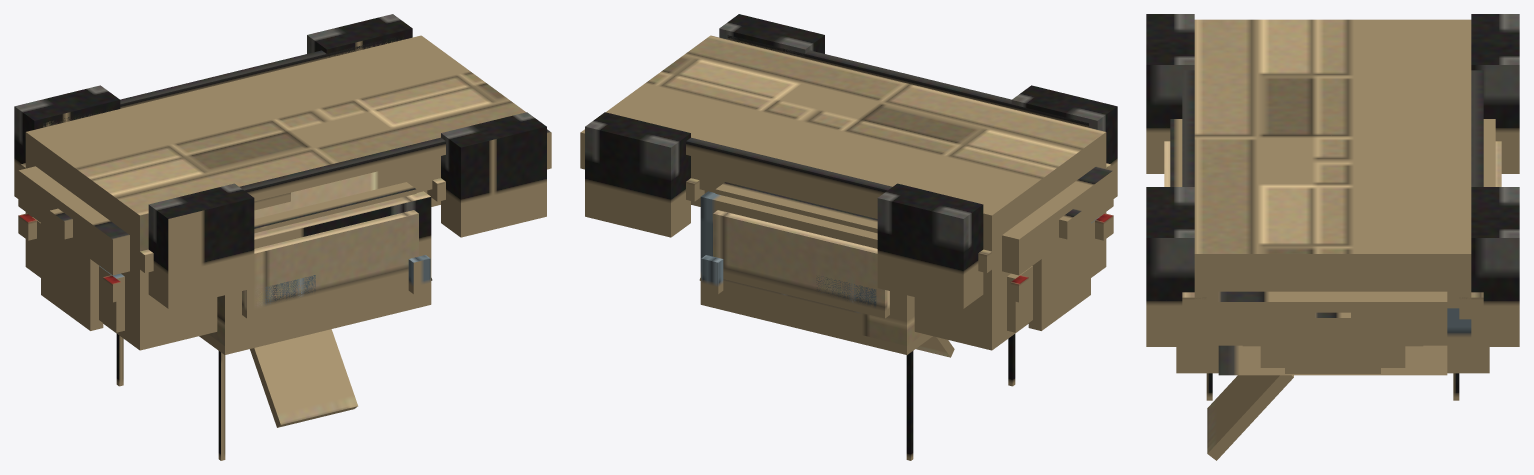
File: humvee.obj
3 renders of one model, left to right at view 1: azimuth 30°, elevation 25°; view 2: azimuth 150°, elevation 25°; view 3: azimuth 270°, elevation 25°, orthographic. The views are drawn at different scales.
Parts seen in each view (by area): view 1: Lower_Hull, Door_Armor_R, Wheel_Rear_Right, Wheel_Front_Right, Upper_Cab, Gunner_Shield, Rear_Bumper, Rear_Deck, Spare_Tire, Frame_Rail_R, Wheel_Rear_Left, Wheel_Front_Left (+8 smaller); view 2: Lower_Hull, Door_Armor_L, Wheel_Rear_Left, Wheel_Front_Left, Upper_Cab, Rear_Bumper, Rear_Deck, Spare_Tire, Frame_Rail_L, Wheel_Rear_Right, Frame_Rail_R, Wheel_Front_Right (+7 smaller); view 3: Lower_Hull, Front_Bumper, Wheel_Front_Left, Wheel_Front_Right, Wheel_Rear_Left, Wheel_Rear_Right, Gunner_Shield, Grille, Windshield, Upper_Cab, Frame_Rail_L, Frame_Rail_R (+7 smaller).
Boxes of the visible parts, <box> form: Lower_Hull: <box>25,35,525,260</box>; Door_Armor_R: <box>242,210,418,318</box>; Wheel_Rear_Right: <box>148,183,254,308</box>; Wheel_Front_Right: <box>441,112,546,237</box>; Upper_Cab: <box>208,191,431,345</box>; Gunner_Shield: <box>250,329,357,427</box>; Rear_Bumper: <box>18,166,129,275</box>; Rear_Deck: <box>25,212,217,350</box>; Spare_Tire: <box>41,214,103,330</box>; Frame_Rail_R: <box>239,137,445,201</box>; Wheel_Rear_Left: <box>14,85,120,198</box>; Wheel_Front_Left: <box>307,14,412,57</box>; Lower_Hull: <box>606,35,1106,260</box>; Door_Armor_L: <box>713,210,889,318</box>; Wheel_Rear_Left: <box>877,183,983,308</box>; Wheel_Front_Left: <box>585,112,690,237</box>; Upper_Cab: <box>700,191,923,345</box>; Rear_Bumper: <box>1002,166,1113,275</box>; Rear_Deck: <box>914,212,1106,350</box>; Spare_Tire: <box>1028,214,1090,330</box>; Frame_Rail_L: <box>686,137,892,201</box>; Wheel_Rear_Right: <box>1011,85,1117,198</box>; Frame_Rail_R: <box>727,35,1088,127</box>; Wheel_Front_Right: <box>719,14,824,57</box>; Lower_Hull: <box>1194,19,1471,308</box>; Front_Bumper: <box>1218,291,1447,345</box>; Wheel_Front_Left: <box>1471,187,1519,346</box>; Wheel_Front_Right: <box>1146,187,1194,346</box>; Wheel_Rear_Left: <box>1471,14,1519,173</box>; Wheel_Rear_Right: <box>1146,14,1194,173</box>; Gunner_Shield: <box>1207,375,1293,460</box>; Grille: <box>1260,345,1405,367</box>; Windshield: <box>1218,345,1447,375</box>; Upper_Cab: <box>1176,308,1489,362</box>; Frame_Rail_L: <box>1471,70,1483,186</box>; Frame_Rail_R: <box>1182,70,1194,186</box>.
Bounding box in the file's own units: 106 × 62 × 62.
Materials: 1 (1 with a texture image).
